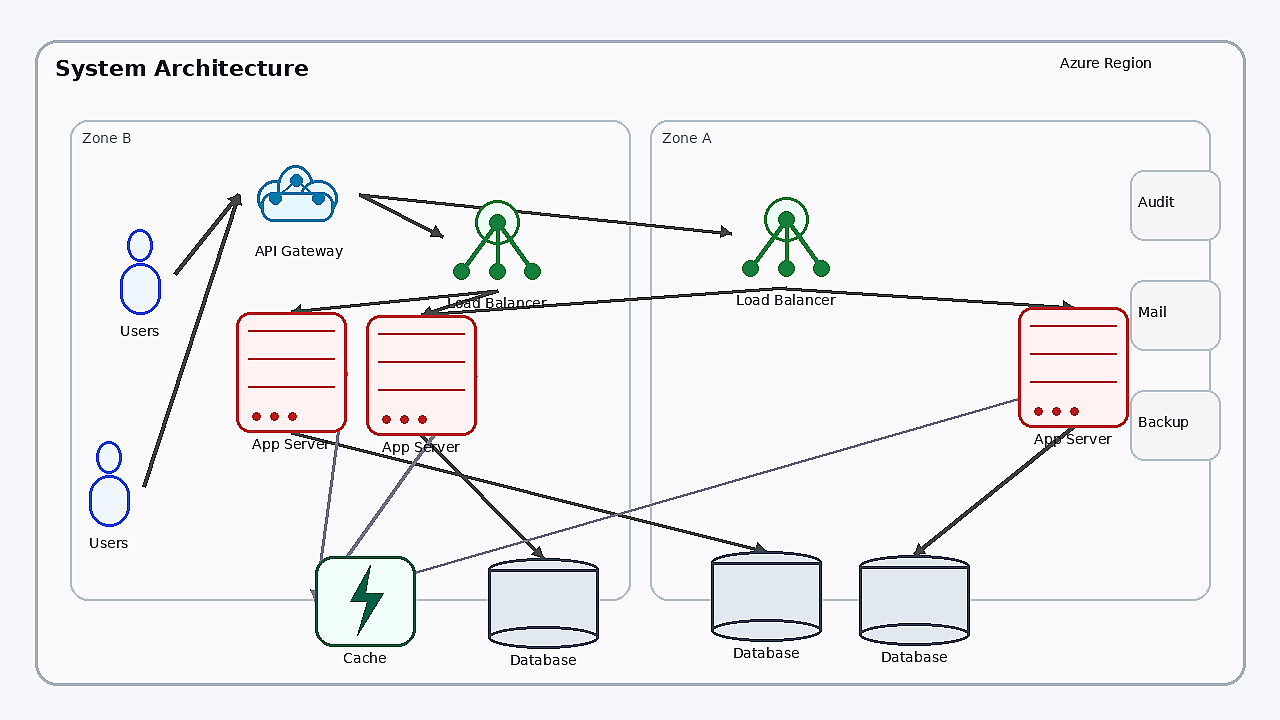API Gateway: (239, 149, 359, 239)
Application Server: (236, 312, 346, 432), (366, 315, 476, 435), (1018, 307, 1128, 427)
Cache: (315, 556, 415, 646)
Database: (859, 555, 969, 645), (711, 551, 821, 641), (488, 558, 598, 648)
Load Balancer: (442, 181, 552, 291), (731, 178, 841, 288)
User: (74, 441, 144, 531), (105, 229, 175, 319)
